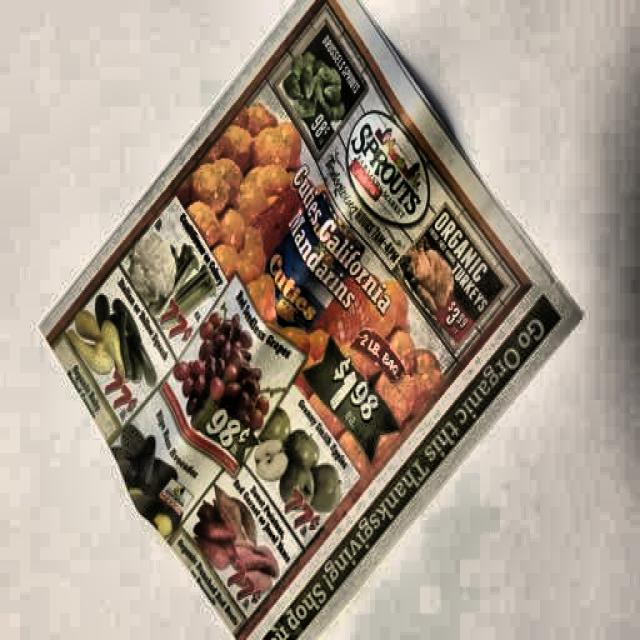paper: (37, 1, 572, 640)
